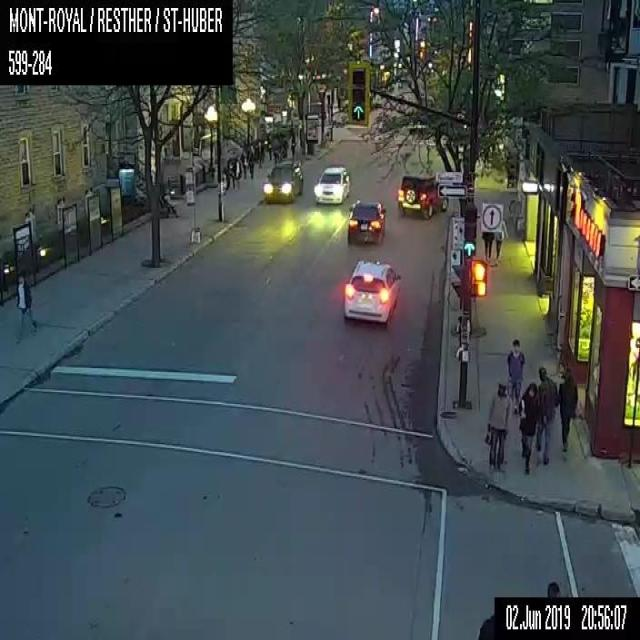pedestrian: (484, 383, 511, 472), (535, 364, 557, 465), (556, 358, 576, 458), (517, 380, 538, 474), (505, 339, 524, 414), (14, 274, 36, 334), (493, 220, 508, 265), (476, 613, 493, 639), (231, 154, 242, 192), (481, 231, 494, 260), (247, 148, 255, 180), (239, 148, 247, 180), (545, 580, 560, 596), (289, 136, 296, 160)
vehicle: (344, 258, 401, 328), (397, 173, 447, 218), (346, 200, 386, 244), (262, 161, 302, 203), (313, 166, 349, 203)
